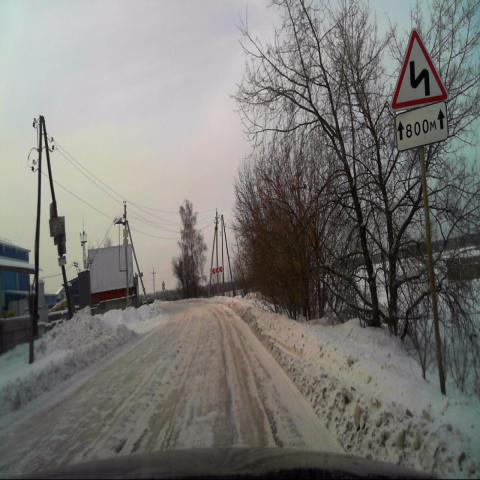1_12_2: (391, 29, 450, 109)
8_2_1: (394, 103, 450, 151)
